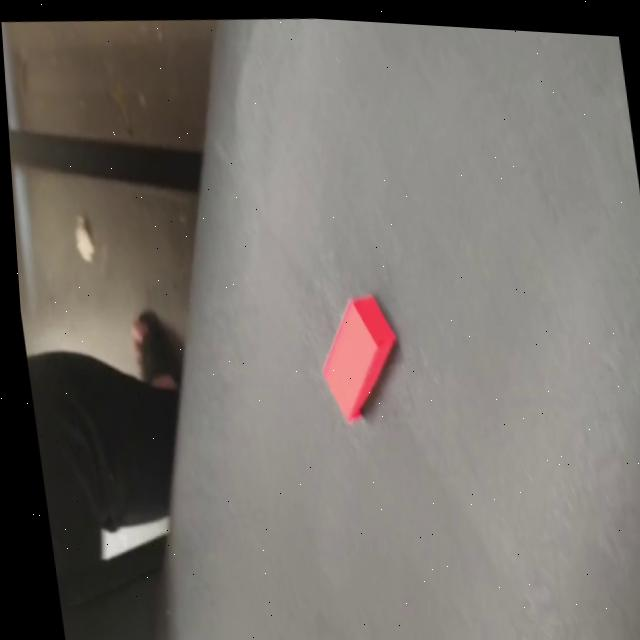red block: (309, 288, 407, 428)
